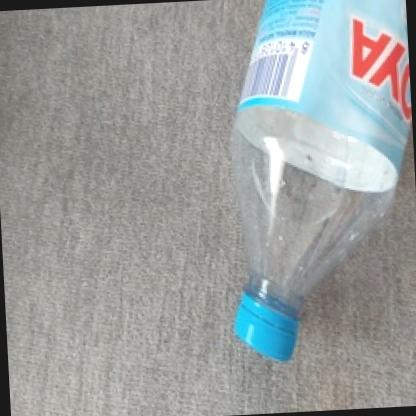plastic_bottles: (192, 0, 416, 370)
